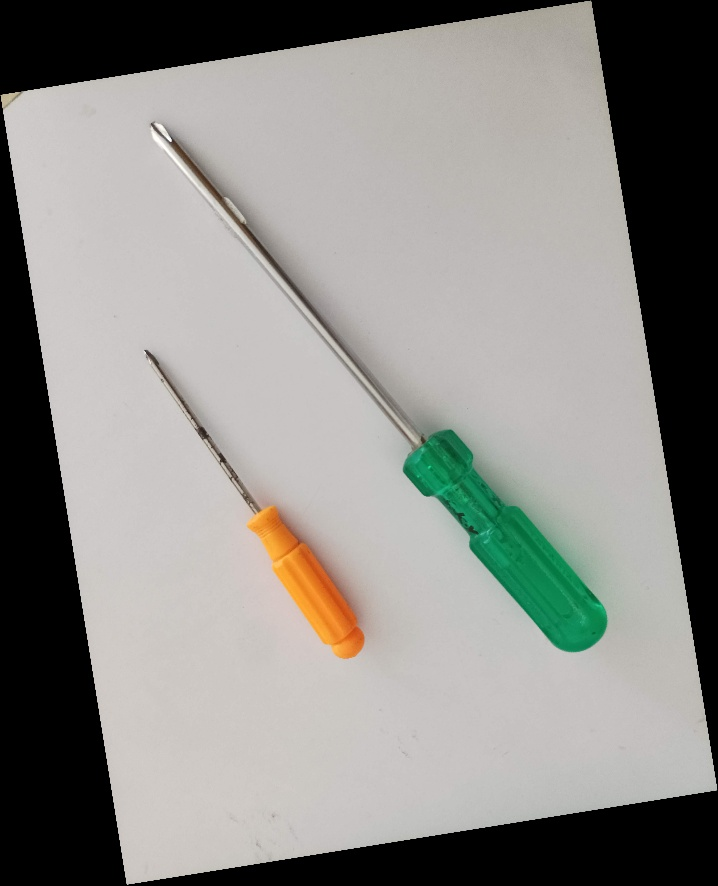screwdriver: (148, 118, 610, 654), (141, 346, 368, 661)
